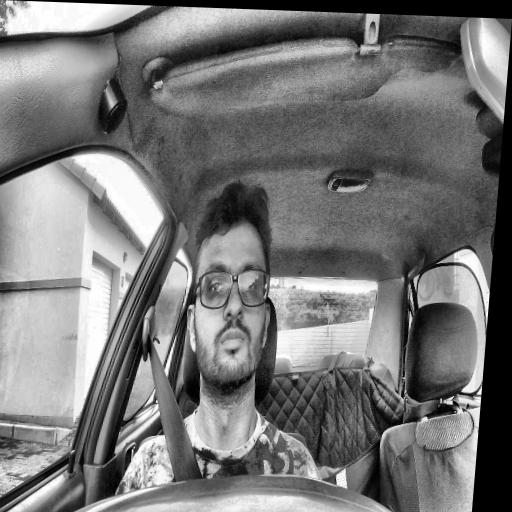awake: (180, 182, 281, 394)
